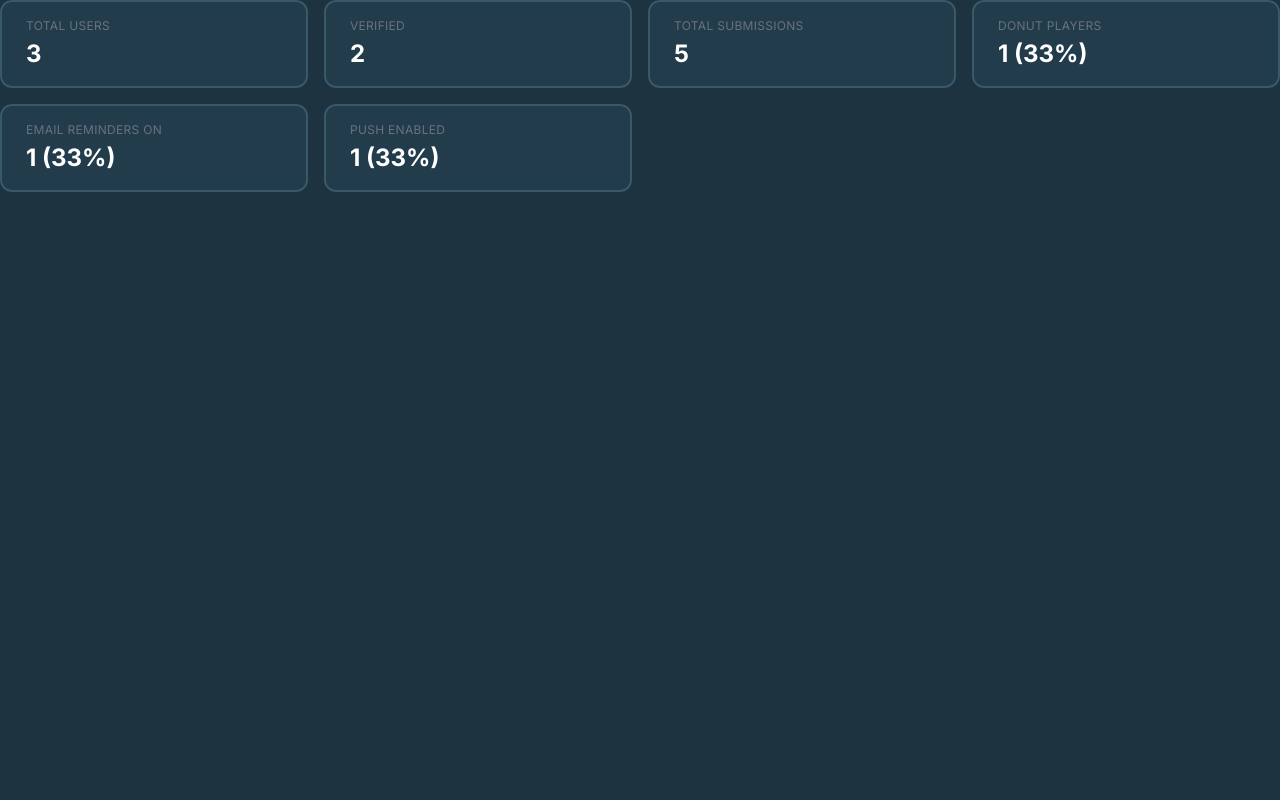
it: usage › the Total Users tile opens a filtered user list
Click the button "Total Users 3" at (154, 44), box [0, 0, 308, 88]
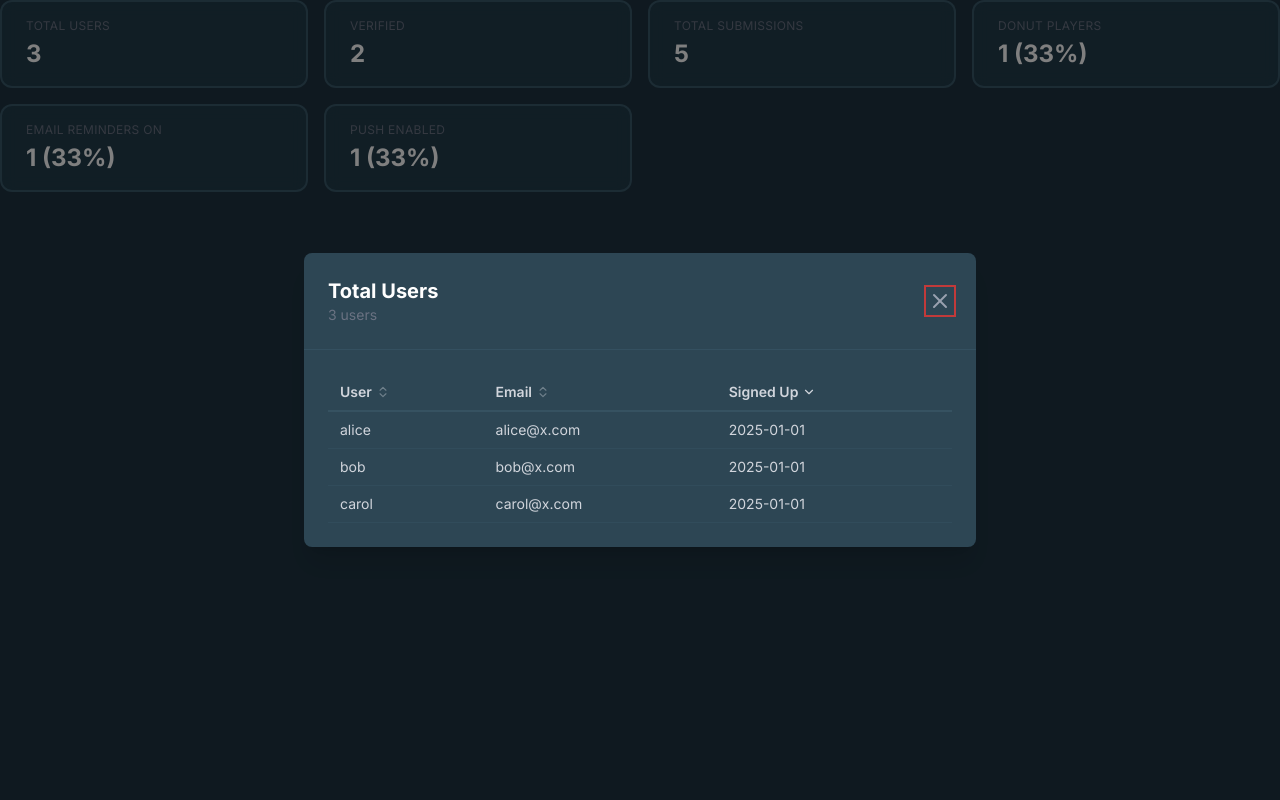
expect the heading "Total Users" is shown: met, box [328, 277, 438, 305]
